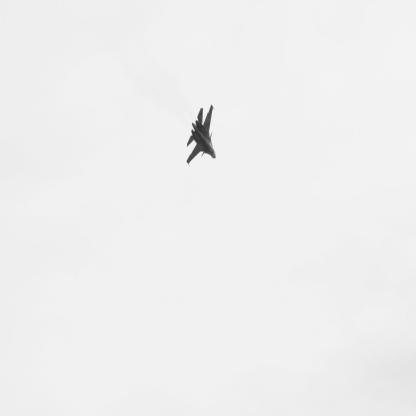Su34: (187, 105, 218, 168)
